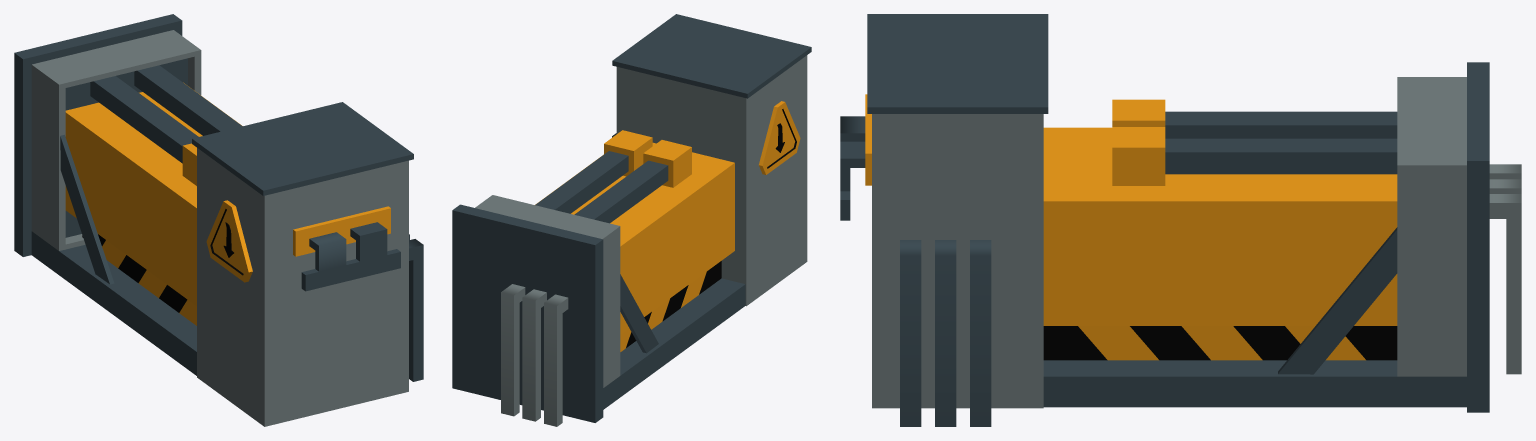
The model's file is Power_Station_01_LV1.fbx.
The picture shows the model from 3 angles, left to right: view 1: azimuth 30°, elevation 25°; view 2: azimuth 150°, elevation 25°; view 3: azimuth 270°, elevation 25°; orthographic projection. The views are drawn at different scales.
Parts seen in each view (by area): view 1: Power_Station_01_LV1; view 2: Power_Station_01_LV1; view 3: Power_Station_01_LV1.
Boxes of the visible parts, x1,y1,x2,y2 form: Power_Station_01_LV1: (14,14,423,426); Power_Station_01_LV1: (452,14,811,426); Power_Station_01_LV1: (840,14,1521,426).
Bounding box in the file's own units: 181 × 234 × 472.
